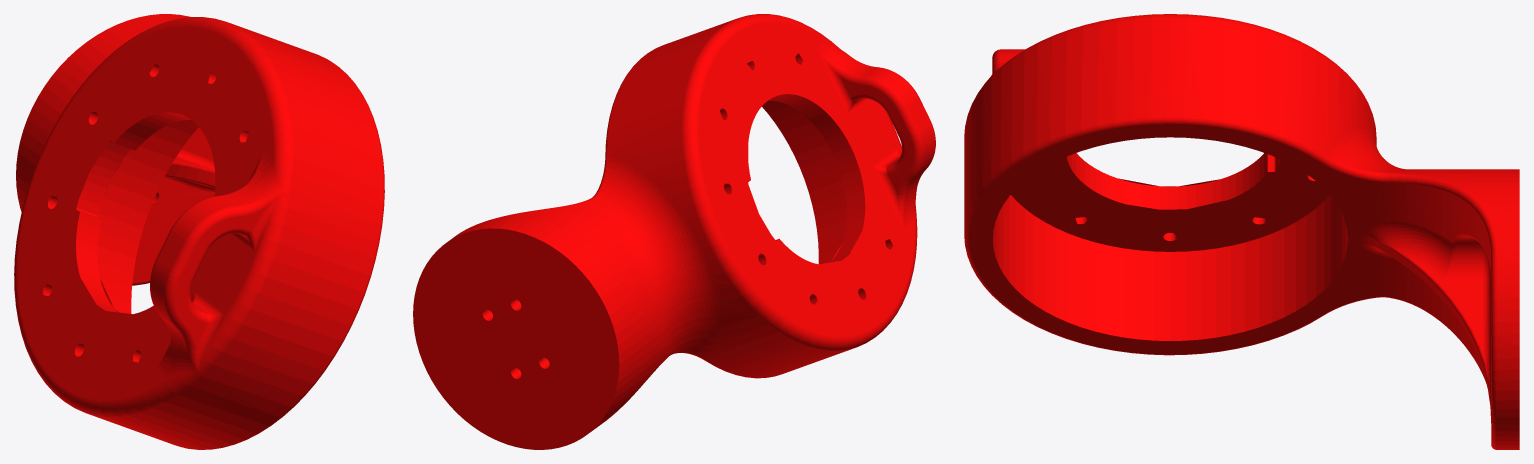
Rendered from legs_1_right_leg_1_thigh_rotate_right_1.glb.
3 renders of one model, left to right at view 1: azimuth 30°, elevation 25°; view 2: azimuth 150°, elevation 25°; view 3: azimuth 270°, elevation 25°, orthographic. The views are drawn at different scales.
Visible parts, largest first — view 1: legs_1_right_leg_1_thigh_rotate_right_1.obj; view 2: legs_1_right_leg_1_thigh_rotate_right_1.obj; view 3: legs_1_right_leg_1_thigh_rotate_right_1.obj.
Boxes of the visible parts, x1,y1,x2,y2 form: legs_1_right_leg_1_thigh_rotate_right_1.obj: (14, 14, 384, 449); legs_1_right_leg_1_thigh_rotate_right_1.obj: (413, 14, 935, 449); legs_1_right_leg_1_thigh_rotate_right_1.obj: (964, 14, 1519, 449).
Size of the model in its own units: 0.1507 by 0.1485 by 0.194.
